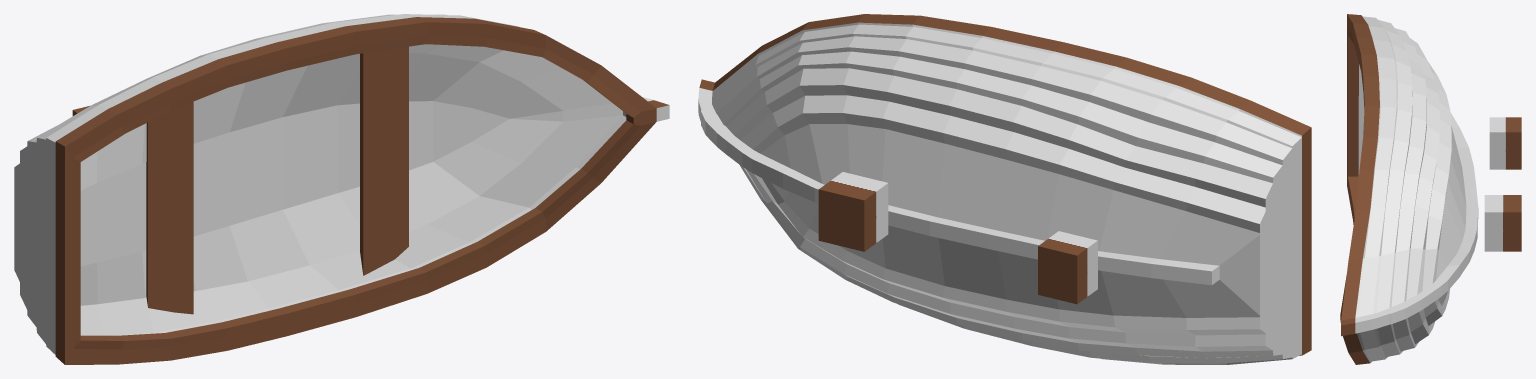
The picture shows the model from 3 angles, left to right: view 1: azimuth 30°, elevation 25°; view 2: azimuth 150°, elevation 25°; view 3: azimuth 270°, elevation 25°; orthographic projection. The views are drawn at different scales.
Parts seen in each view (by area): view 1: 1391_Rowboat; view 2: 1391_Rowboat, Seat.1, Seat.0; view 3: 1391_Rowboat, Seat.1, Seat.0.
Boxes of the visible parts, x1,y1,x2,y2 form: 1391_Rowboat: (14,14,669,364); 1391_Rowboat: (698,14,1311,364); Seat.1: (818,172,888,251); Seat.0: (1038,231,1097,304); 1391_Rowboat: (1340,14,1478,364); Seat.1: (1484,195,1521,251); Seat.0: (1489,117,1521,169).
Size of the model in its own units: 1.91 by 0.877 by 0.6347.
Materials: 1 (1 with a texture image).
